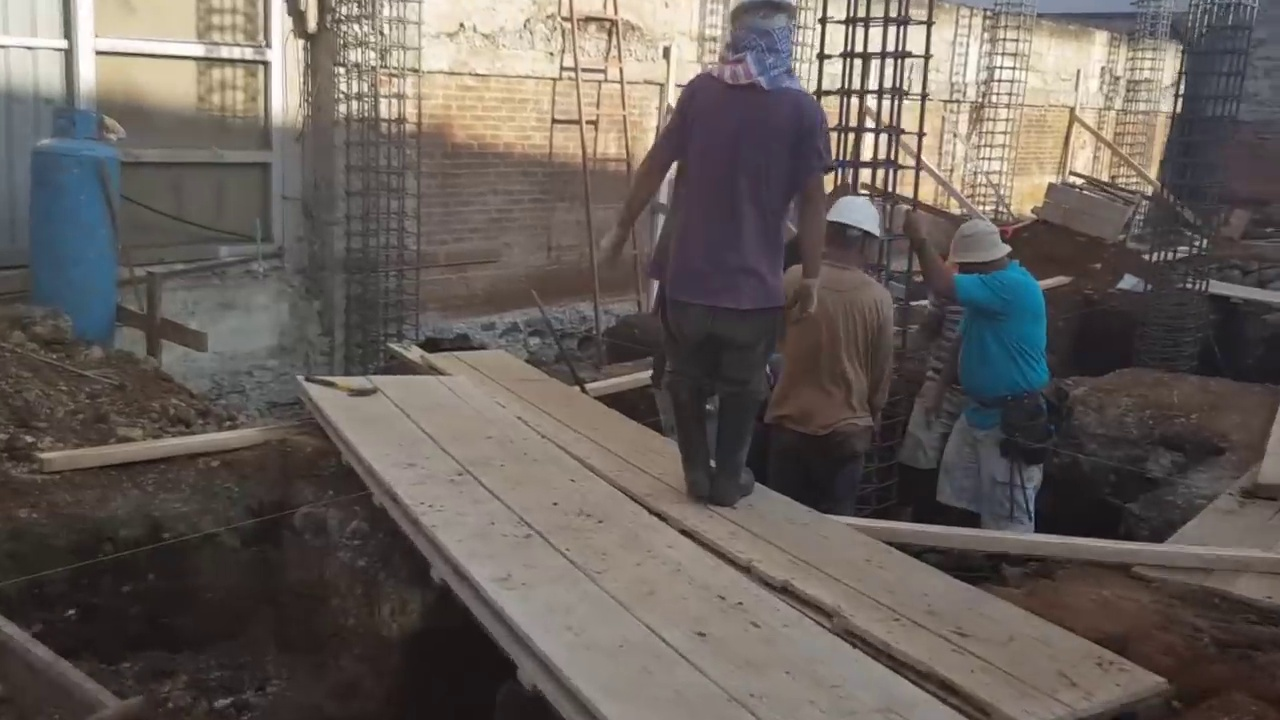helmet: (823, 195, 883, 238)
helmet-off: (715, 0, 806, 76), (947, 218, 1017, 286)
helmet-on: (824, 194, 884, 269)
person: (615, 0, 833, 511), (906, 206, 1058, 585), (764, 190, 895, 511), (905, 269, 990, 504)
